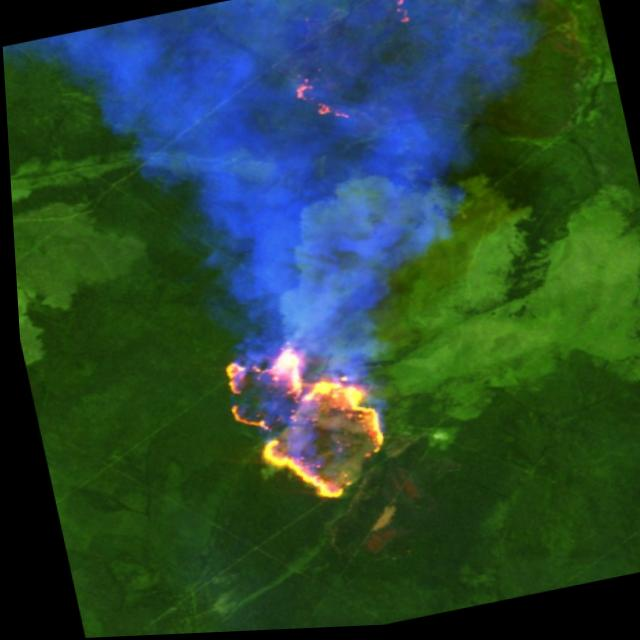fire: (204, 317, 402, 524), (285, 68, 356, 139), (379, 0, 419, 37)
